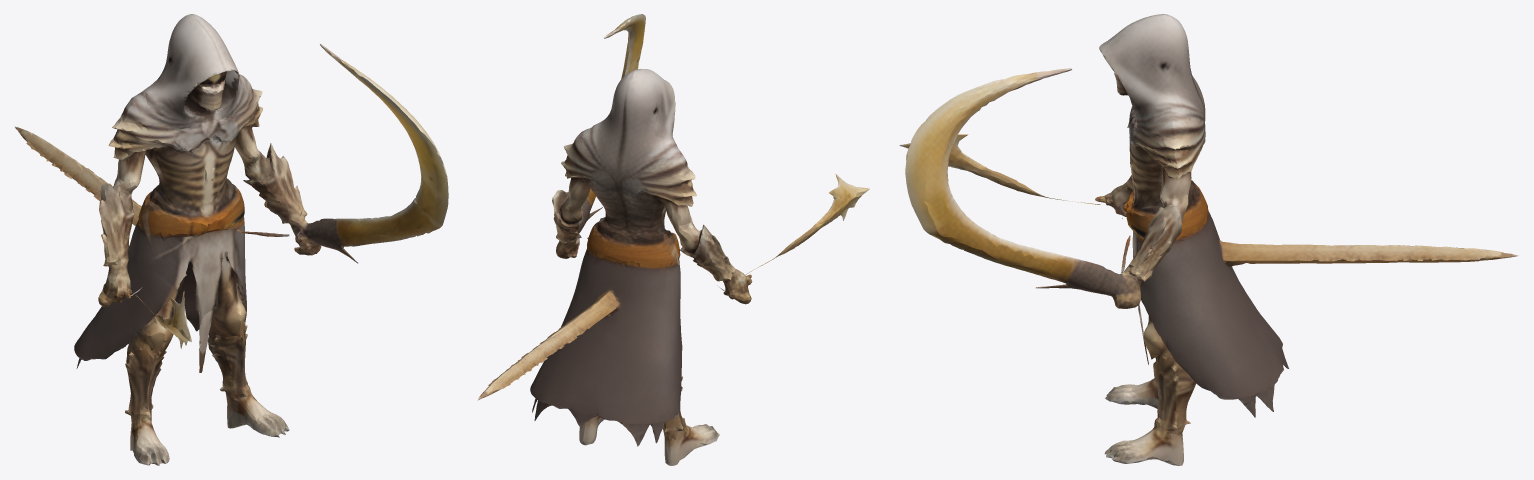
File: undead_archer.glb
3 views of the same model, side by side, from view 1: azimuth 30°, elevation 25°; view 2: azimuth 150°, elevation 25°; view 3: azimuth 270°, elevation 25° (orthographic). The views are drawn at different scales.
Parts seen in each view (by area): view 1: undead_archer; view 2: undead_archer; view 3: undead_archer.
Boxes of the visible parts, x1,y1,x2,y2 form: undead_archer: (14, 14, 448, 465); undead_archer: (477, 14, 870, 465); undead_archer: (899, 14, 1519, 465).
Size of the model in its own units: 0.9325 by 1.44 by 1.89.
Materials: 1 (1 with a texture image).
